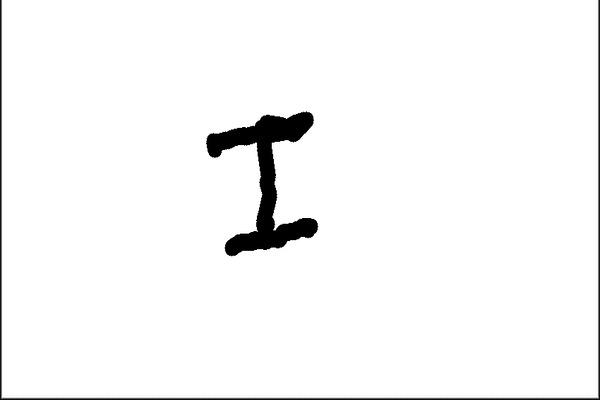i: (205, 104, 322, 261)
